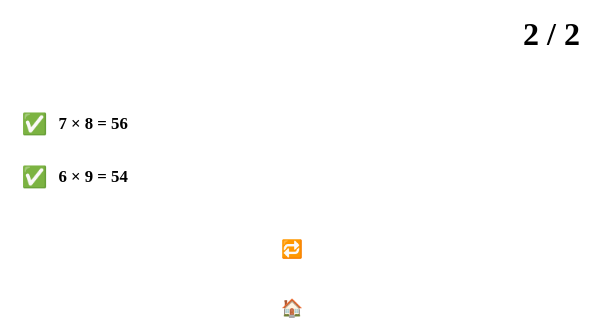
Test: ResultsScreen — paper self-marking › un-marking a row lowers the live score
Click the button named "7 × 8 = 56" at (33, 124), box [17,111,49,138]
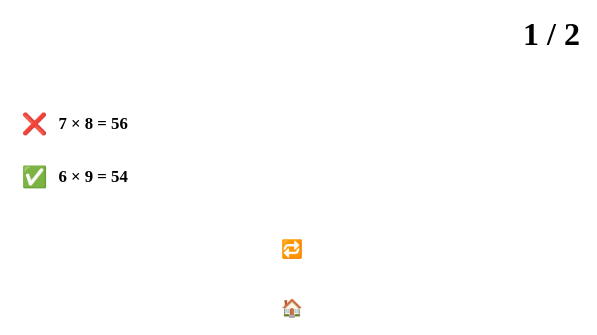
expect the text "1 / 2" is shown: met, box [523,16,580,53]
